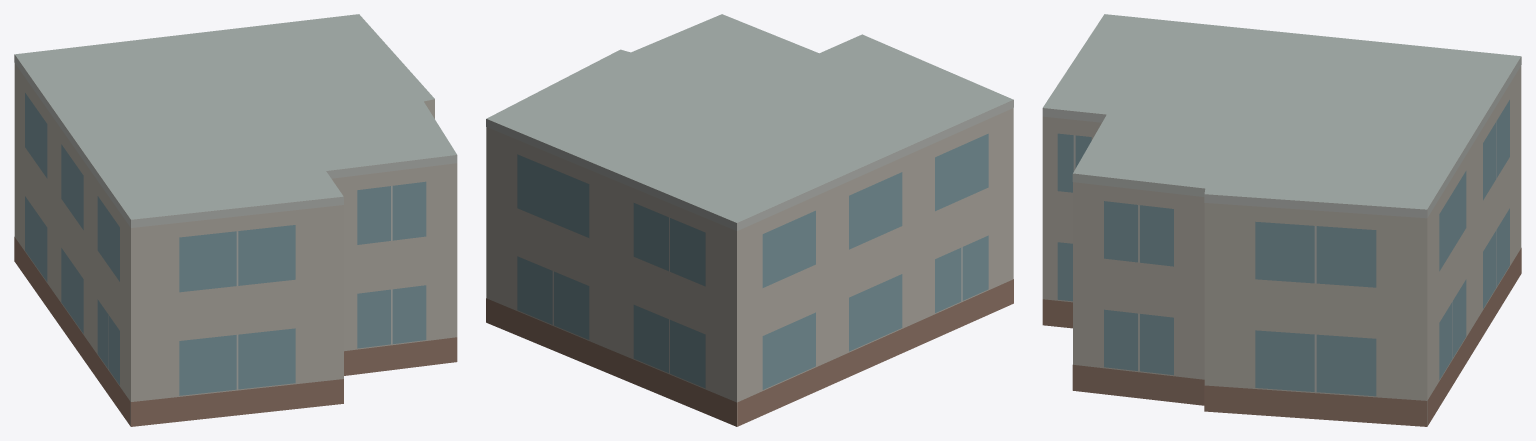
The model's file is survey-upis-32614270.glb.
3 views of the same model, side by side, from view 1: azimuth 30°, elevation 25°; view 2: azimuth 150°, elevation 25°; view 3: azimuth 270°, elevation 25° (orthographic). The views are drawn at different scales.
Parts seen in each view (by area): view 1: survey-upis-32614270.tmp; view 2: survey-upis-32614270.tmp; view 3: survey-upis-32614270.tmp.
Part boxes in pixels (<box>): survey-upis-32614270.tmp: <box>14,14,457,426</box>; survey-upis-32614270.tmp: <box>486,14,1013,426</box>; survey-upis-32614270.tmp: <box>1042,14,1521,426</box>.
Size of the model in its own units: 11.79 by 6.1 by 12.2.
